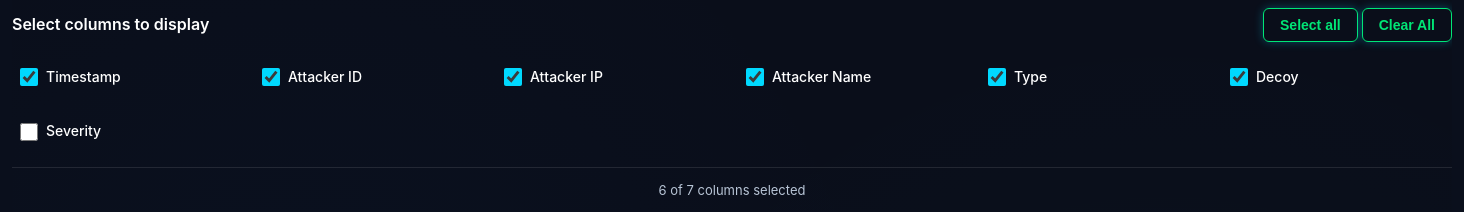
ColumnSelector › clears all columns when "Clear All" button is clicked
This screenshot has width=1464, height=212.
Click the button with aria-label "Select no columns".
click(1407, 25)  # box 1362,8 -> 1452,42
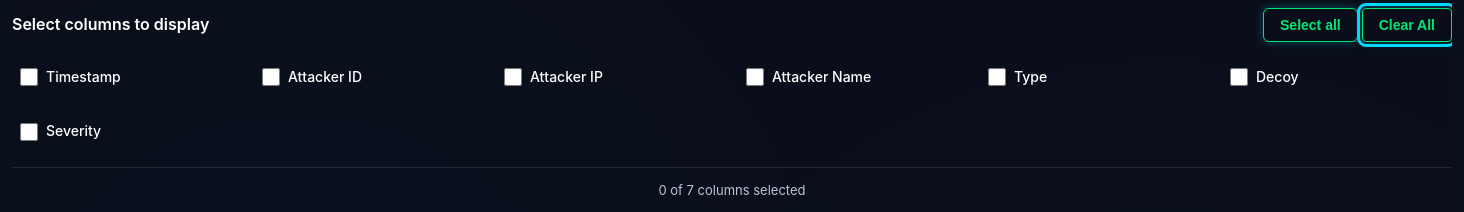
Expected: the checkbox named "Toggle Severity" is not checked, 20,123 -> 38,141
Expected: the checkbox named "Toggle Timestamp" is not checked, 20,68 -> 38,86
